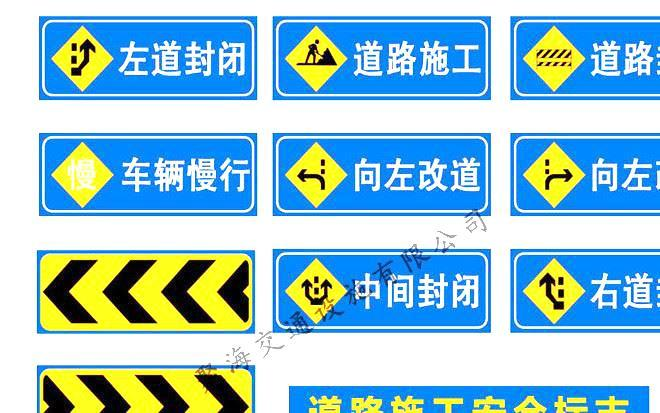sign: (39, 252, 254, 334), (274, 132, 489, 213), (40, 17, 256, 97), (276, 18, 488, 99), (275, 251, 487, 331), (39, 135, 255, 213), (509, 248, 660, 331), (514, 133, 660, 215), (512, 18, 659, 97), (38, 369, 253, 413)
